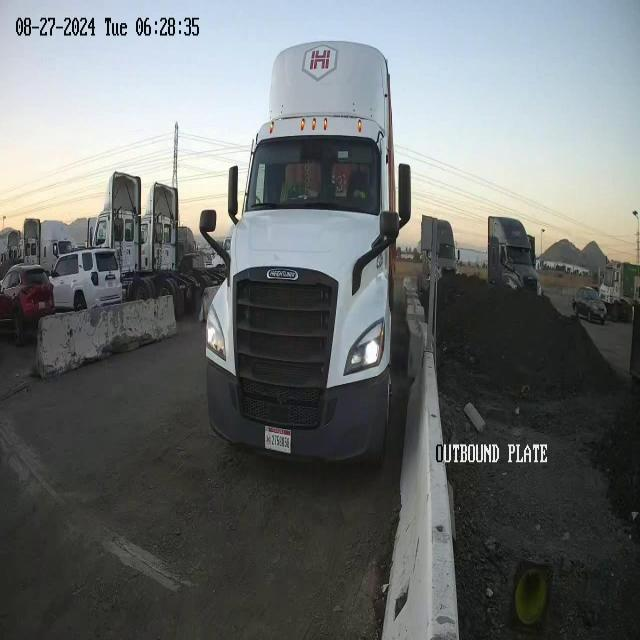TRUCK_OUT: (200, 39, 410, 470)
